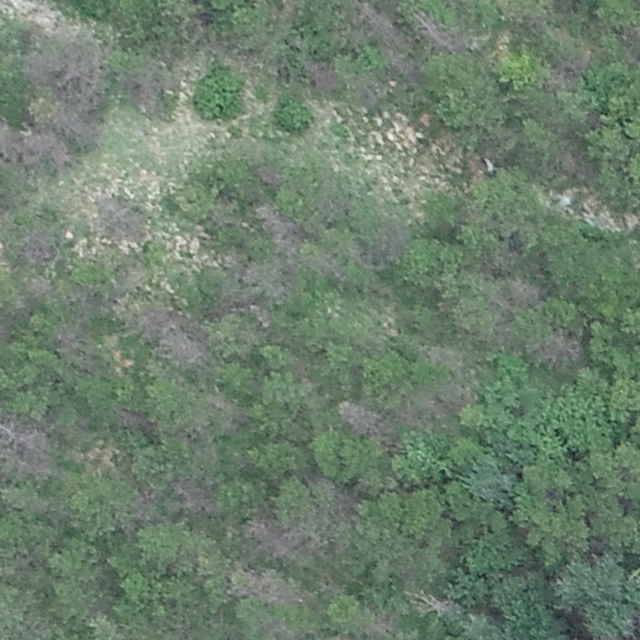unhealthy: (22, 38, 106, 108), (0, 130, 72, 175), (34, 102, 100, 149), (0, 424, 53, 478), (305, 171, 358, 221), (96, 194, 149, 243), (227, 564, 289, 605), (356, 3, 407, 49), (410, 7, 458, 54), (534, 328, 582, 372), (243, 517, 294, 558), (256, 208, 302, 252), (546, 49, 591, 92), (169, 476, 215, 515), (337, 399, 383, 437), (163, 334, 206, 370), (17, 230, 56, 269), (135, 307, 179, 341), (376, 215, 405, 263), (394, 395, 432, 429), (303, 60, 340, 93), (503, 278, 540, 311), (412, 590, 458, 616), (385, 54, 420, 88), (133, 74, 161, 114), (438, 382, 477, 410), (55, 327, 81, 353), (26, 275, 54, 298), (624, 25, 640, 63), (255, 163, 281, 186), (560, 152, 583, 178)
